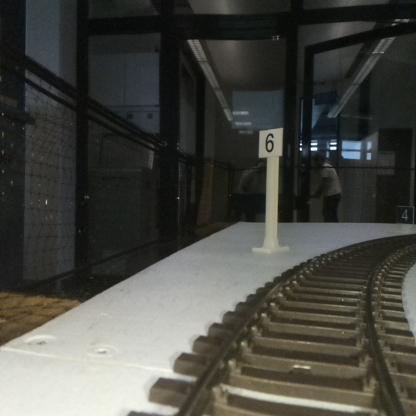black-stop-4: (397, 205, 413, 230)
white-info-6: (259, 128, 282, 249)
